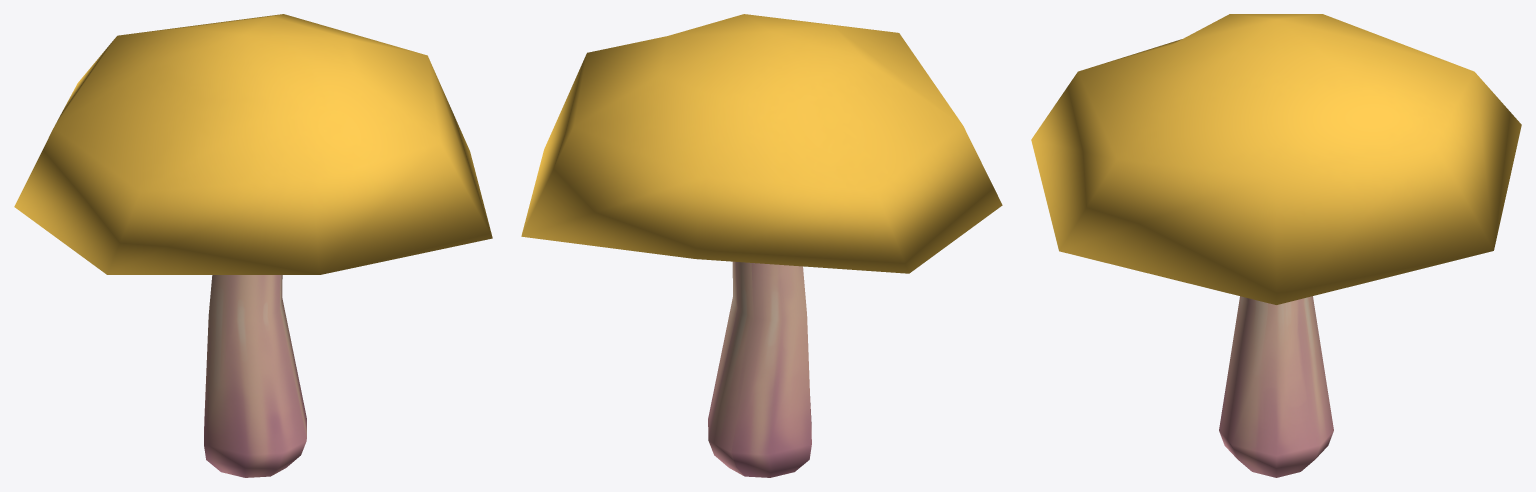
The model's file is MD_mushroom_Nomal_M.fbx.
3 views of the same model, side by side, from view 1: azimuth 30°, elevation 25°; view 2: azimuth 150°, elevation 25°; view 3: azimuth 270°, elevation 25° (orthographic).
Parts seen in each view (by area): view 1: mushroom_Nomal_M1; view 2: mushroom_Nomal_M1; view 3: mushroom_Nomal_M1.
Boxes of the visible parts, x1=… form: mushroom_Nomal_M1: x1=14, y1=14, x2=492, y2=477; mushroom_Nomal_M1: x1=521, y1=14, x2=1002, y2=477; mushroom_Nomal_M1: x1=1031, y1=14, x2=1521, y2=477.
Size of the model in its own units: 1403 by 1413 by 1437.
1 material, 1 textured.
